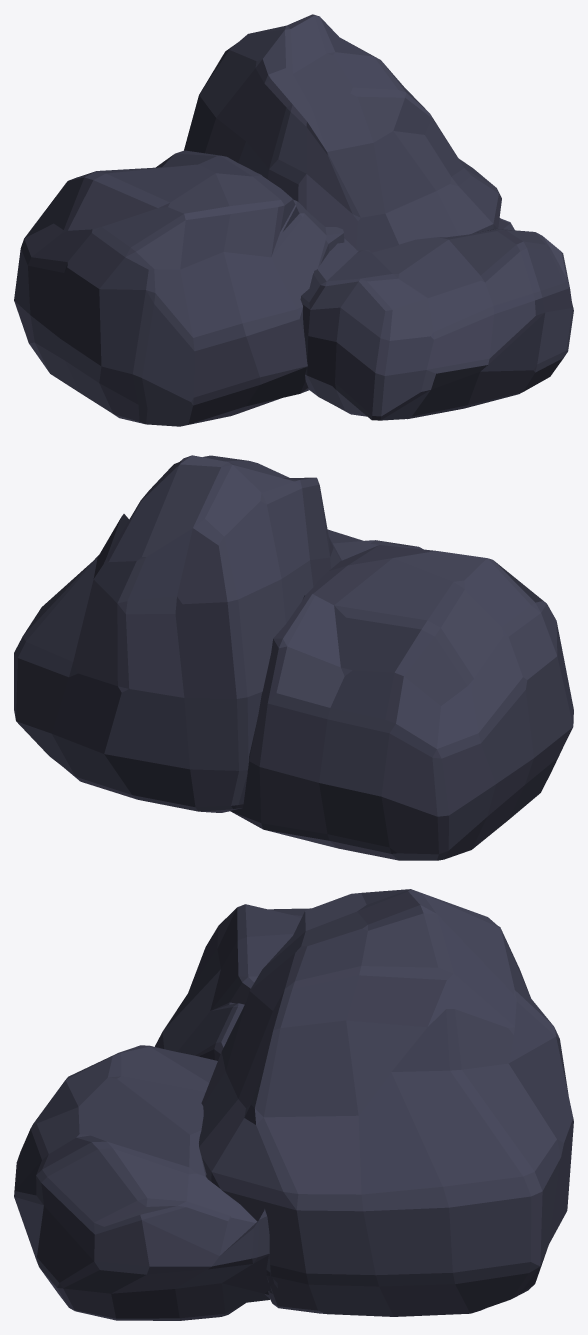
The model's file is Piedras1.fbx.
3 renders of one model, top to bottom at view 1: azimuth 30°, elevation 25°; view 2: azimuth 150°, elevation 25°; view 3: azimuth 270°, elevation 25°, orthographic. The views are drawn at different scales.
Parts seen in each view (by area): view 1: Cube.002, Cube, Cube.001; view 2: Cube.002, Cube.001, Cube; view 3: Cube.001, Cube, Cube.002.
Part boxes in pixels (x1=…): Cube.002: x1=14, y1=150, x2=344, y2=426; Cube: x1=300, y1=218, x2=573, y2=420; Cube.001: x1=184, y1=14, x2=501, y2=250; Cube.002: x1=230, y1=545, x2=573, y2=860; Cube.001: x1=14, y1=455, x2=341, y2=812; Cube: x1=327, y1=529, x2=423, y2=560; Cube.001: x1=199, y1=889, x2=573, y2=1316; Cube: x1=14, y1=1045, x2=277, y2=1320; Cube.002: x1=155, y1=904, x2=310, y2=1060.
Size of the model in its own units: 366 by 252 by 335.
